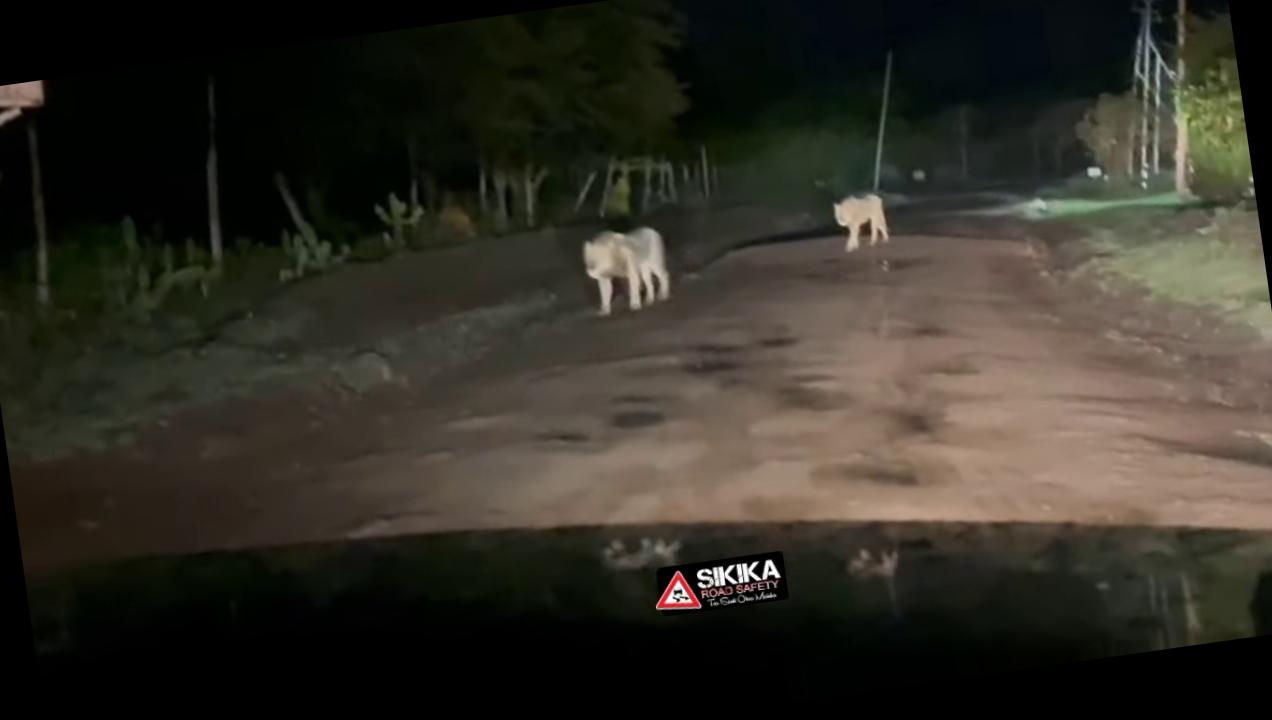lions: (562, 210, 685, 328), (814, 174, 909, 274)
